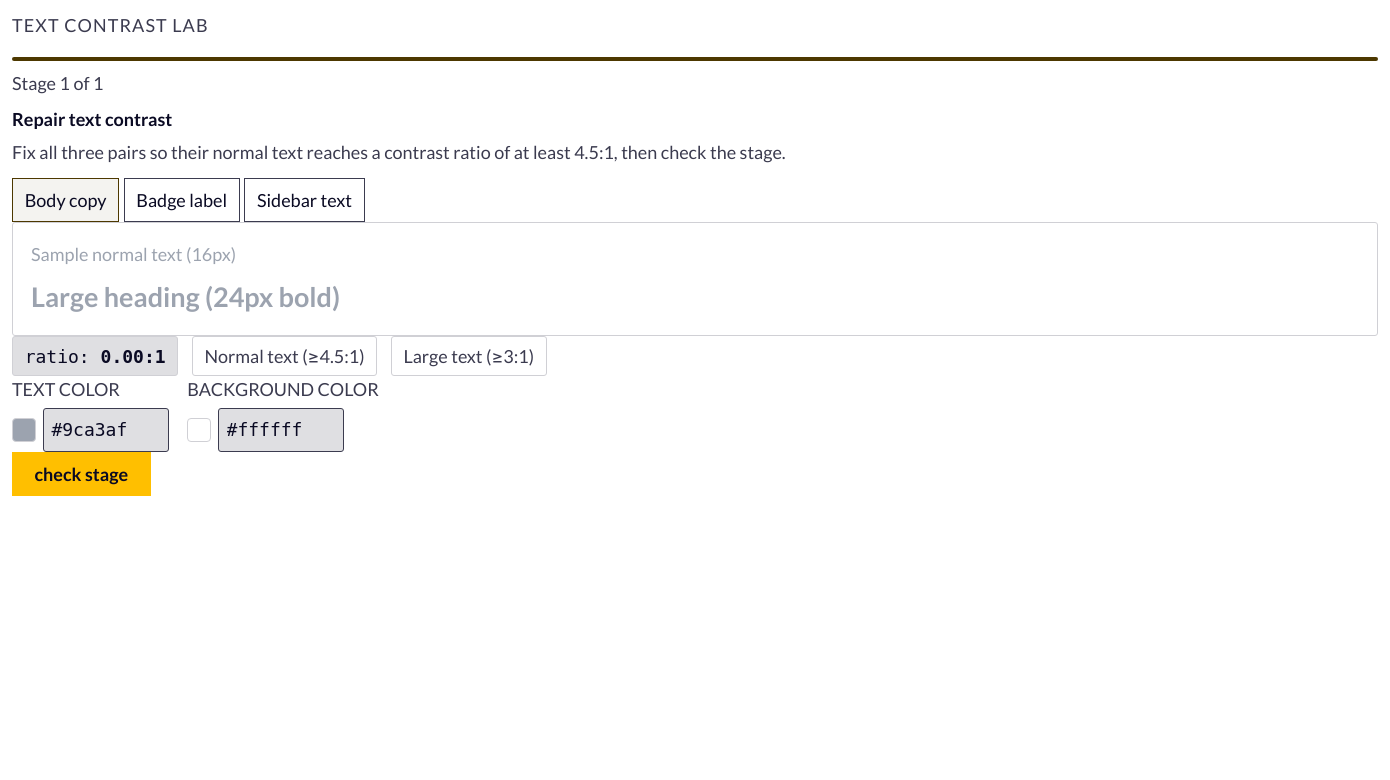
TextContrastLabTool › keeps an incomplete repair in the stage for retry
Replace the text in the field named "Text color hex" with "#000000": (106, 430) left=43, top=408, right=169, bottom=452
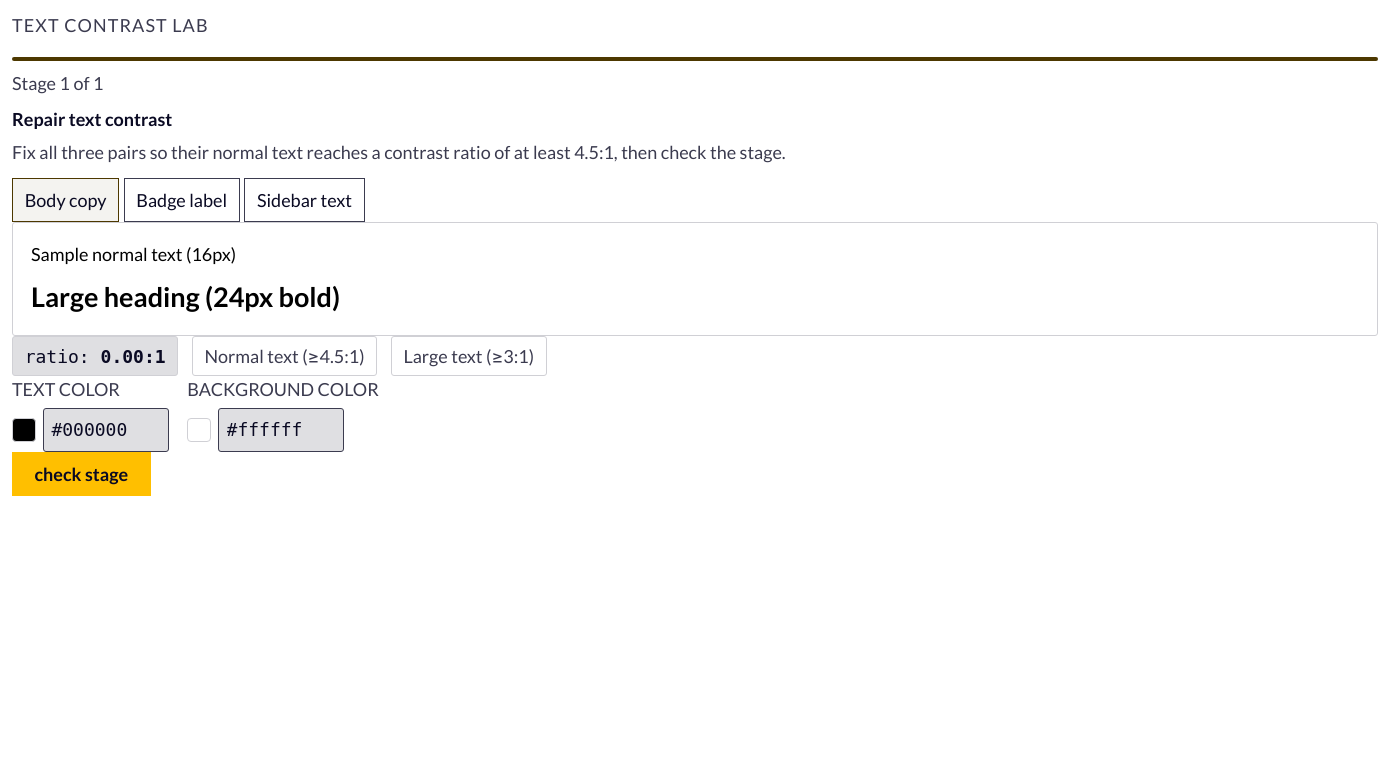
Click the button "check stage": (81, 474) left=12, top=452, right=151, bottom=496
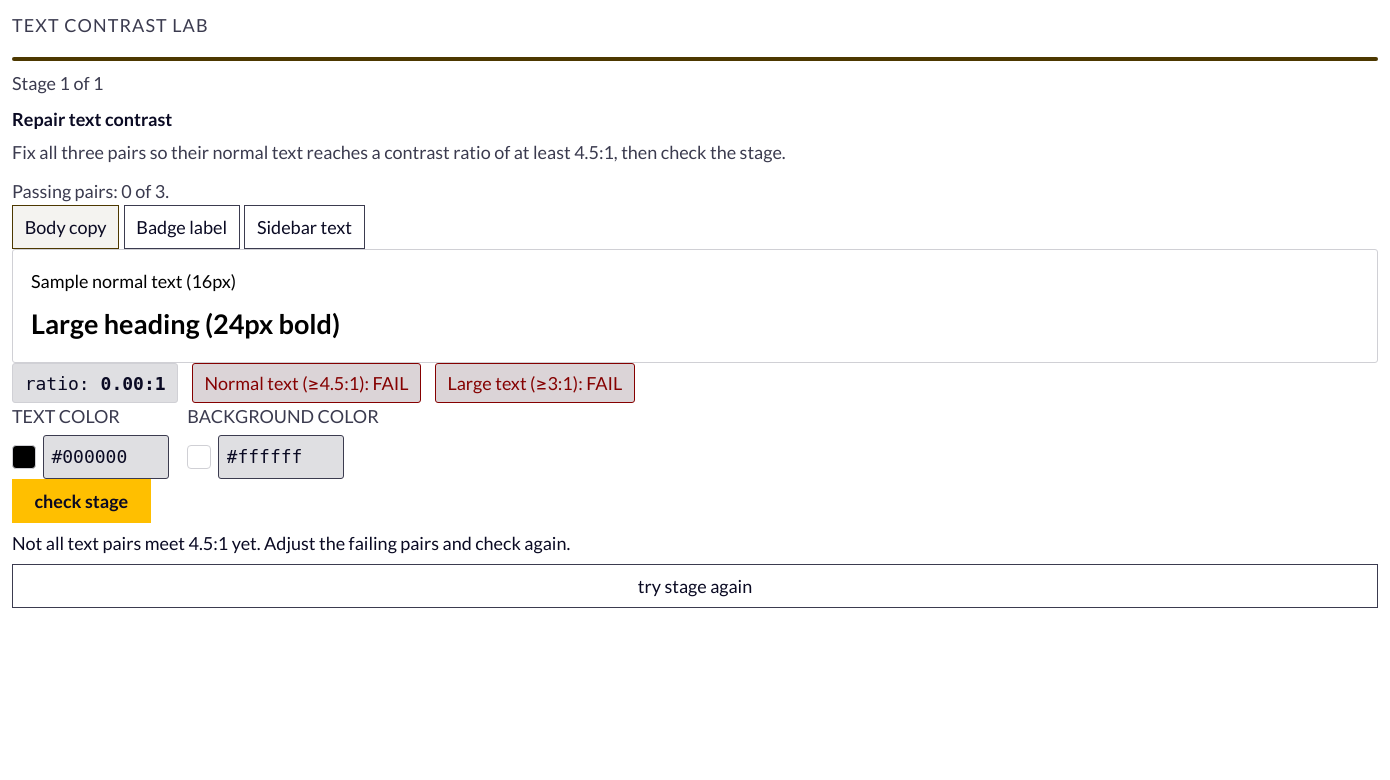
Check: the text "Not all text pairs meet 4.5:1 yet. Adjust the failing pairs and check again." is shown, box left=12, top=532, right=570, bottom=554
Check: the button "try stage again" is shown, box left=12, top=564, right=1378, bottom=608
